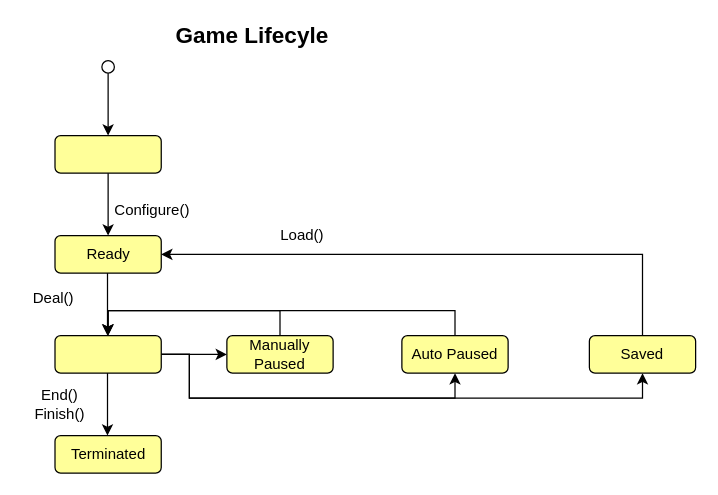
This 718x495 diagram has some shape labels left out. Each missing label, with the box of its shape:
New: (54, 134, 161, 173)
Running: (54, 334, 161, 373)
